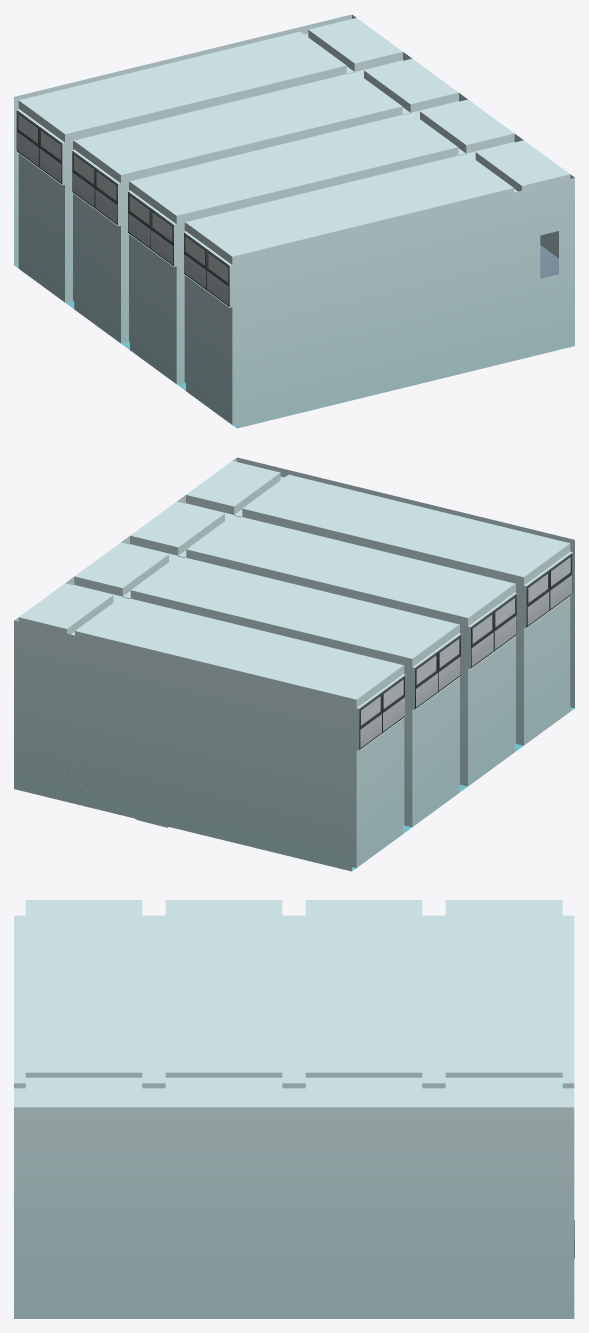
File: Lab_Room 1.fbx
3 renders of one model, top to bottom at view 1: azimuth 30°, elevation 25°; view 2: azimuth 150°, elevation 25°; view 3: azimuth 270°, elevation 25°, orthographic. The views are drawn at different scales.
Parts seen in each view (by area): view 1: pPlane7; view 2: pPlane7; view 3: pPlane7.
Boxes of the visible parts, left/top/right/bottom form: pPlane7: left=14, top=14, right=574, bottom=428; pPlane7: left=14, top=457, right=574, bottom=871; pPlane7: left=14, top=900, right=574, bottom=1318.
Size of the model in its own units: 21.17 by 10.06 by 24.03.
